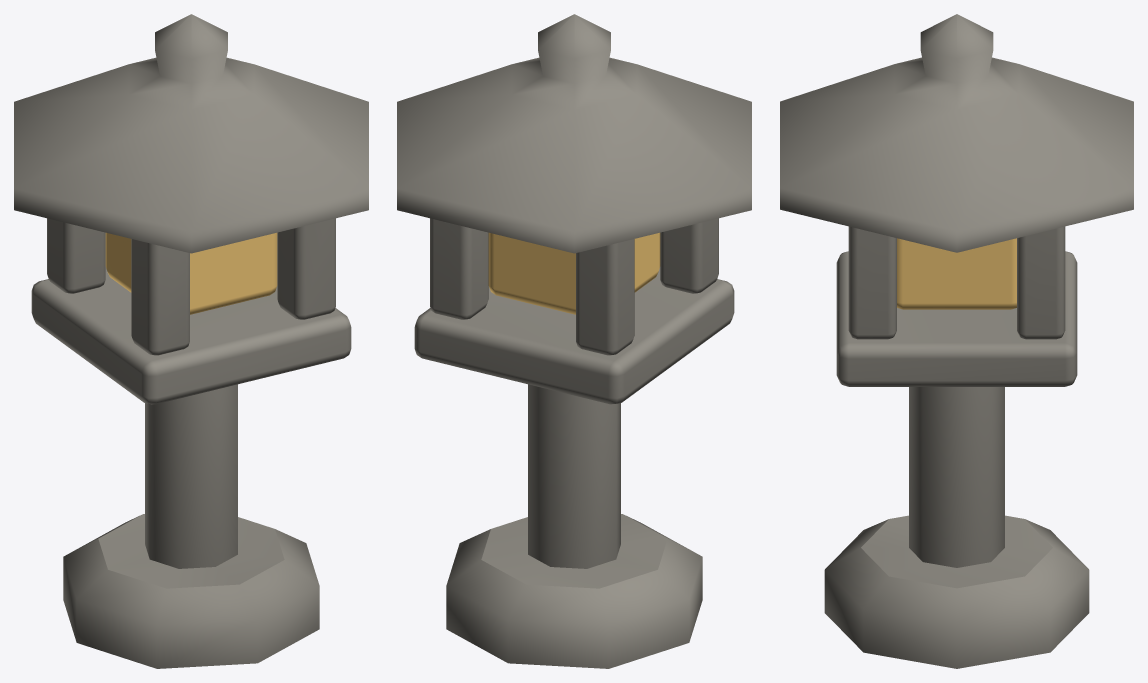
The model's file is furn_dp_lantern.glb.
3 renders of one model, left to right at view 1: azimuth 30°, elevation 25°; view 2: azimuth 150°, elevation 25°; view 3: azimuth 270°, elevation 25°, orthographic.
Parts seen in each view (by area): view 1: furn_dp_lantern_main, furn_dp_lantern_glow; view 2: furn_dp_lantern_main, furn_dp_lantern_glow; view 3: furn_dp_lantern_main, furn_dp_lantern_glow.
Boxes of the visible parts, left/top/right/bottom form: furn_dp_lantern_main: left=14, top=14, right=368, bottom=668; furn_dp_lantern_glow: left=105, top=232, right=277, bottom=314; furn_dp_lantern_main: left=397, top=14, right=751, bottom=668; furn_dp_lantern_glow: left=488, top=232, right=660, bottom=314; furn_dp_lantern_main: left=780, top=14, right=1133, bottom=668; furn_dp_lantern_glow: left=897, top=238, right=1016, bottom=309.
Bounding box in the file's own units: 0.68 × 1.1 × 0.5889.
